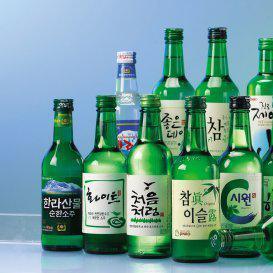soju: (37, 25, 273, 263)
